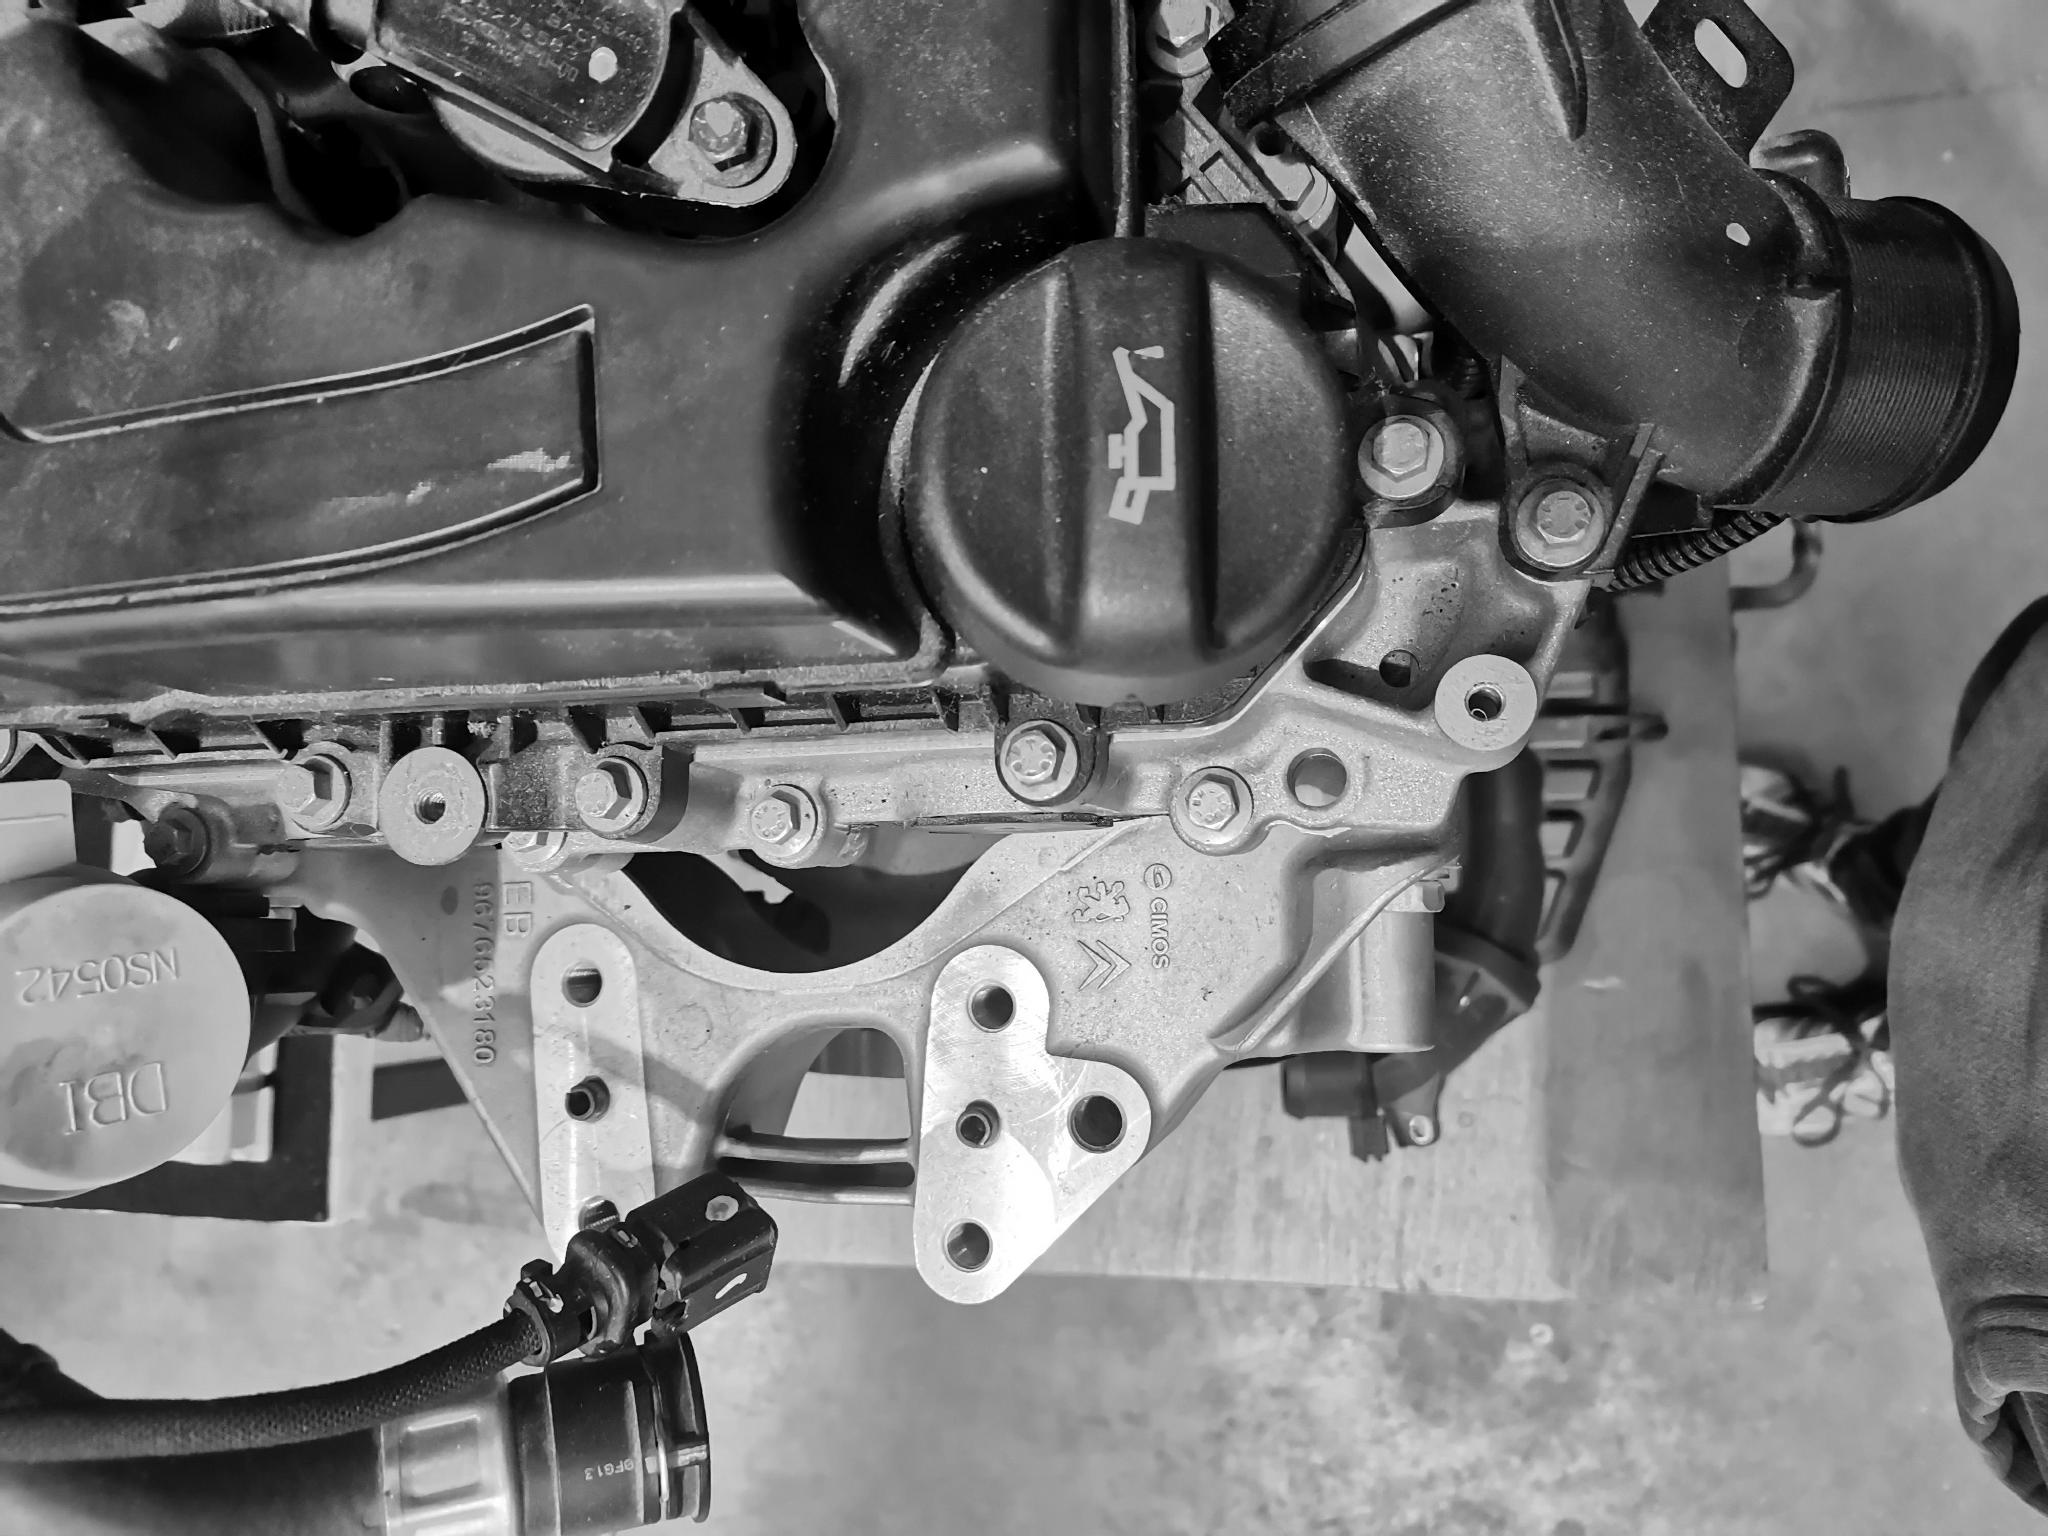screw: (679, 86, 776, 181), (1355, 407, 1450, 500), (1508, 478, 1601, 570), (268, 749, 355, 836), (569, 758, 651, 836), (997, 720, 1077, 797), (1171, 766, 1250, 842), (745, 787, 822, 862)
